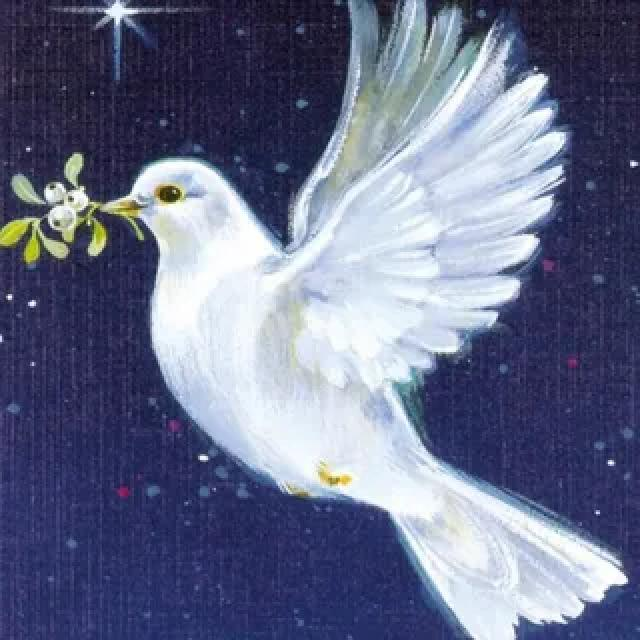pigeon: (94, 0, 640, 640)
